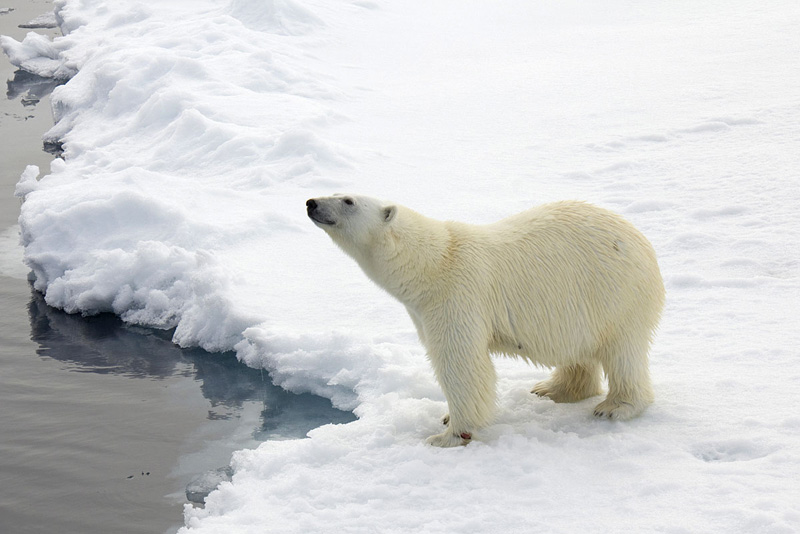Polar Bear: (302, 172, 674, 469)
